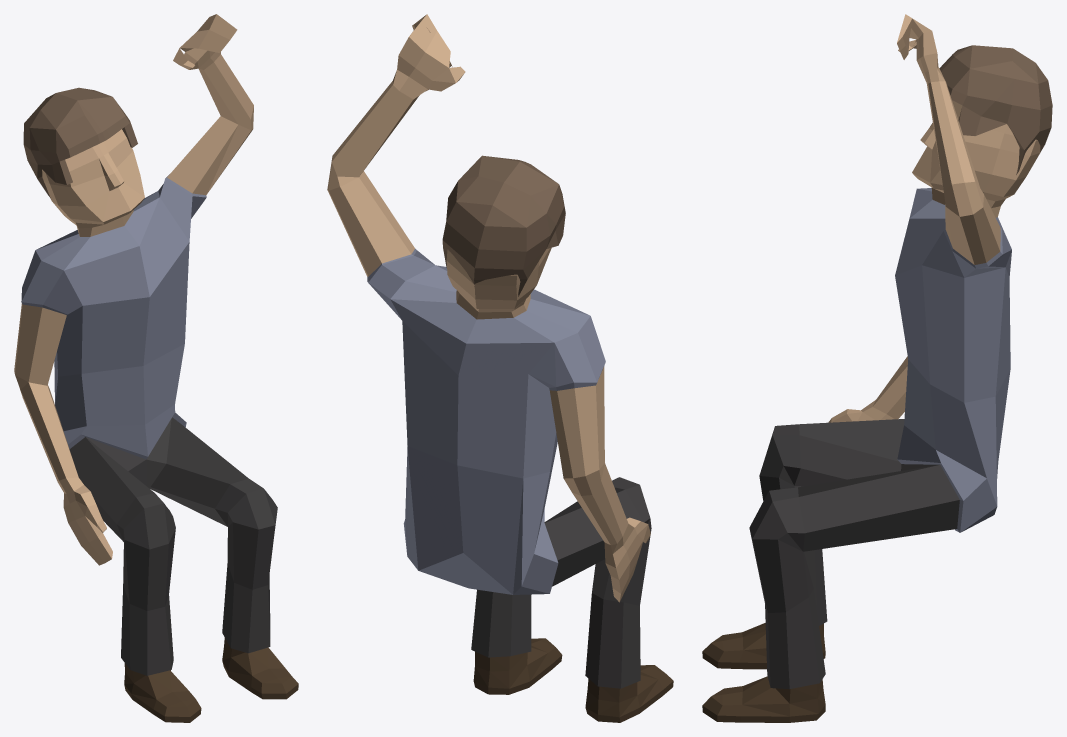
The model's file is male_cheer_hair3.glb.
3 views of the same model, side by side, from view 1: azimuth 30°, elevation 25°; view 2: azimuth 150°, elevation 25°; view 3: azimuth 270°, elevation 25° (orthographic). The views are drawn at different scales.
Parts seen in each view (by area): view 1: hair; view 2: hair; view 3: hair.
Boxes of the visible parts, left/top/right/bottom form: hair: left=14, top=14, right=298, bottom=722; hair: left=327, top=14, right=673, bottom=722; hair: left=702, top=14, right=1052, bottom=722.
Bounding box in the file's own units: 0.672 × 1.68 × 0.7509.
